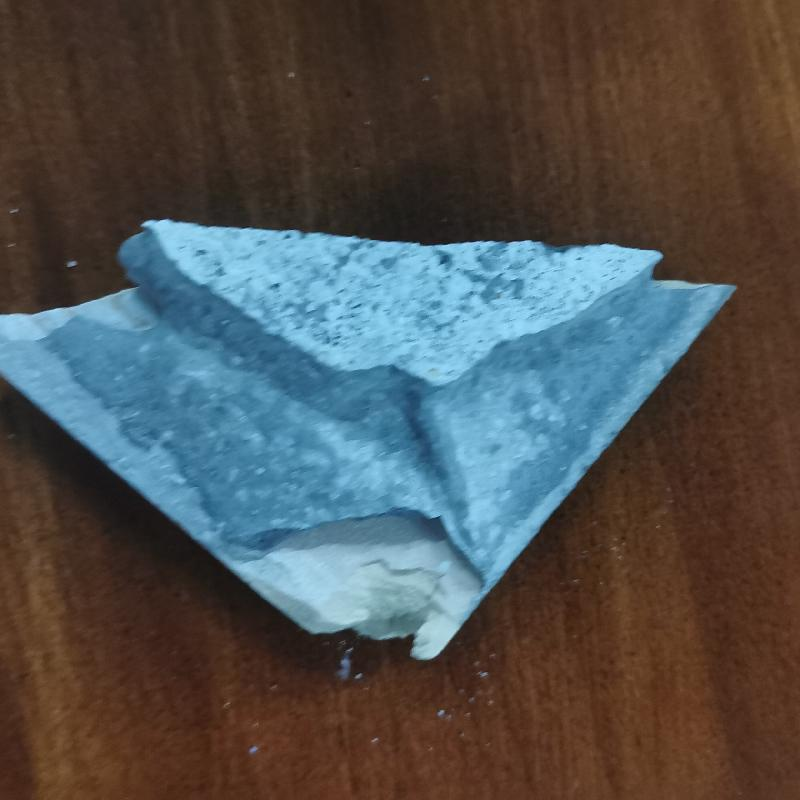tile: (7, 213, 733, 665)
